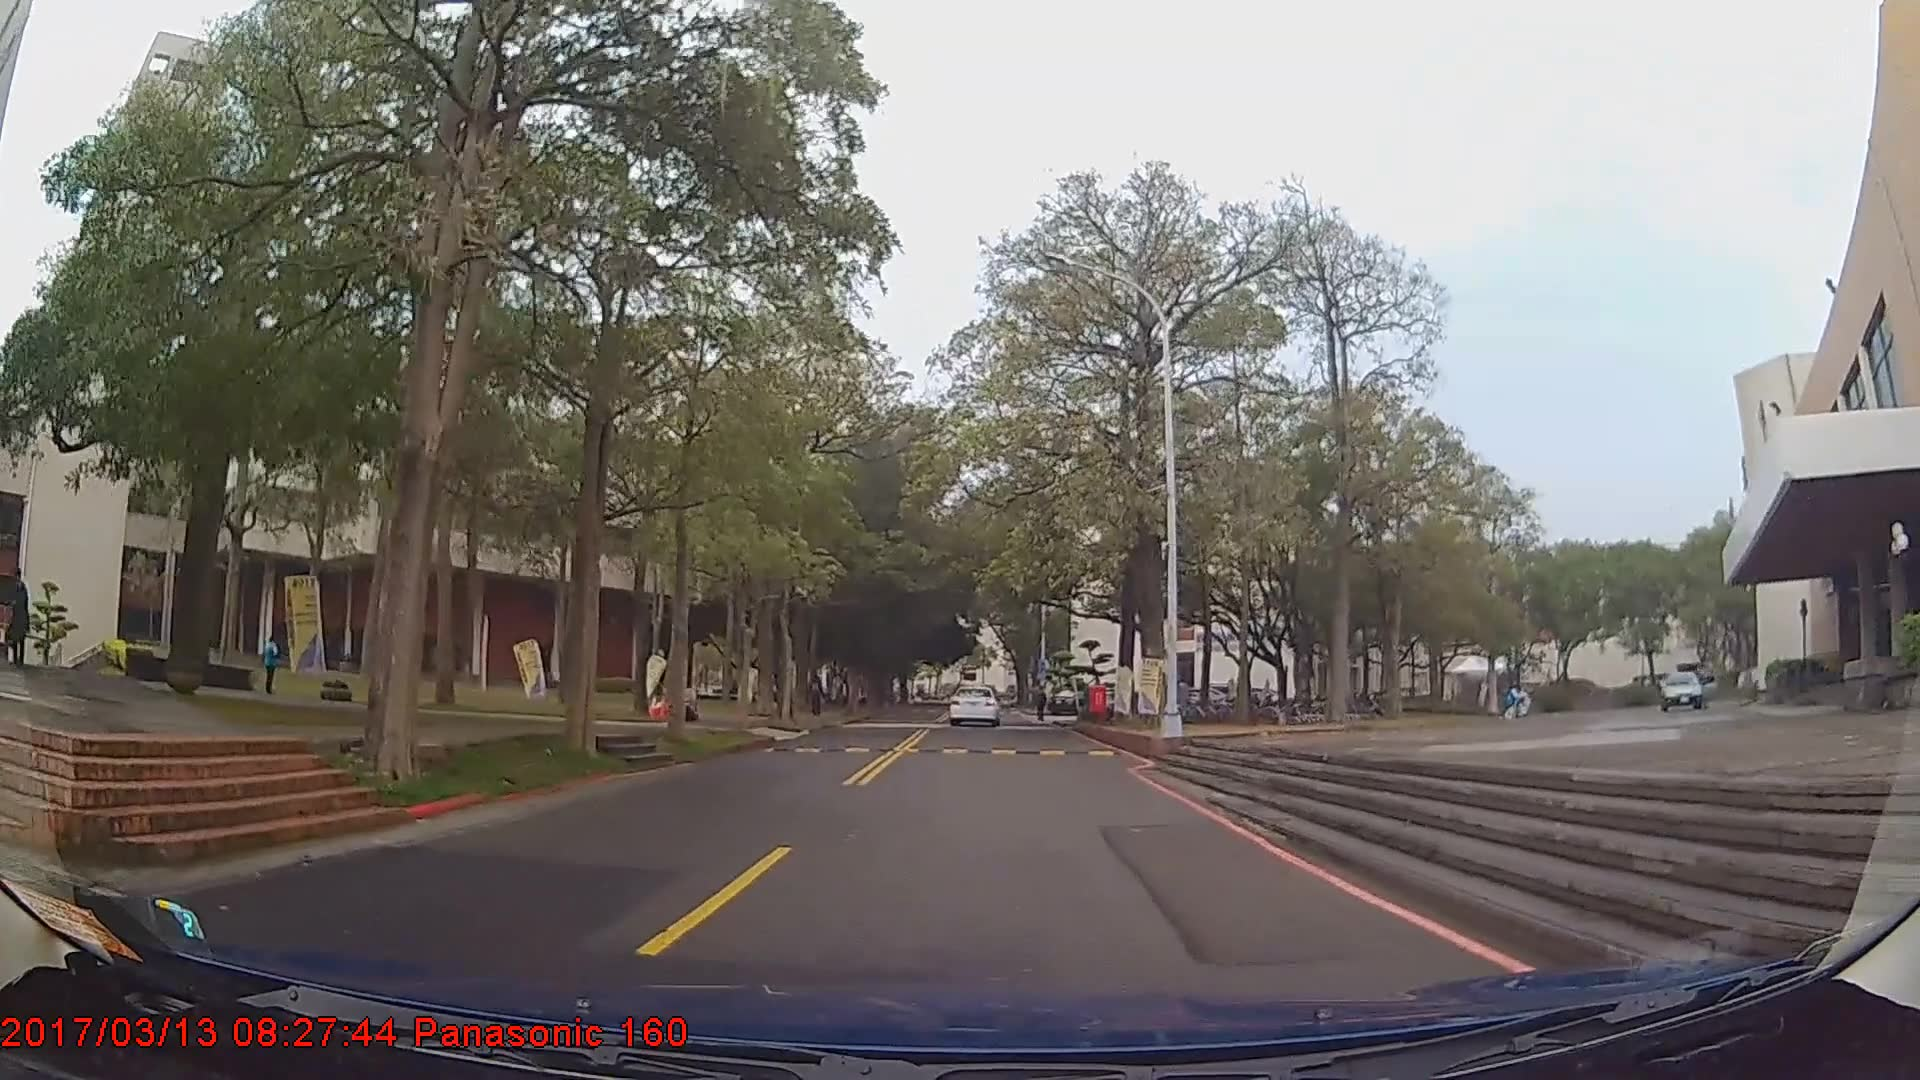pedestrian: (1, 566, 32, 671), (262, 635, 283, 694)
vehicle: (1655, 665, 1720, 710), (947, 683, 1001, 728)
